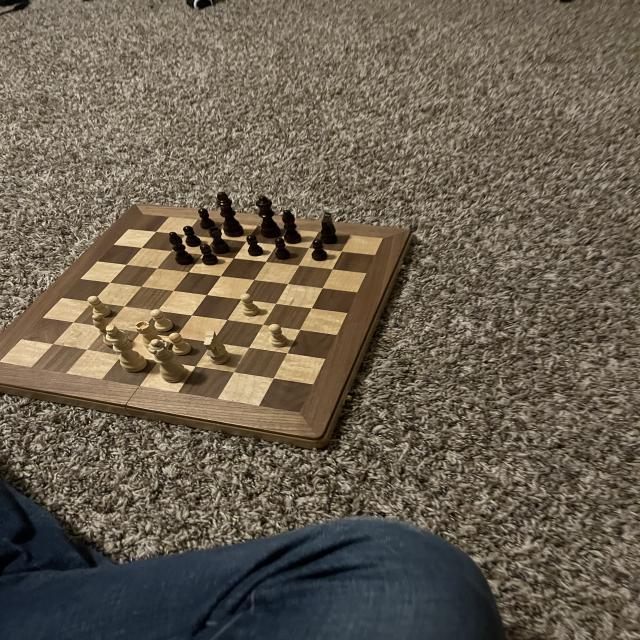bishop: (280, 208, 303, 246), (168, 231, 193, 265)
black-bishop: (215, 191, 247, 239)
black-king: (317, 211, 340, 245)
black-knight: (242, 232, 266, 258), (197, 244, 220, 265), (273, 237, 292, 262), (195, 207, 214, 230), (182, 225, 201, 248), (310, 239, 328, 262)
black-pawn: (254, 195, 281, 238)
black-queen: (208, 226, 229, 253)
black-rook: (89, 314, 122, 349)
white-bishop: (104, 322, 148, 373)
white-king: (203, 328, 230, 366)
white-knight: (148, 306, 176, 335), (86, 294, 112, 318), (168, 332, 192, 356), (267, 323, 288, 349), (240, 292, 260, 317)
white-pawn: (146, 337, 188, 385)
white-queen: (134, 319, 163, 351)
